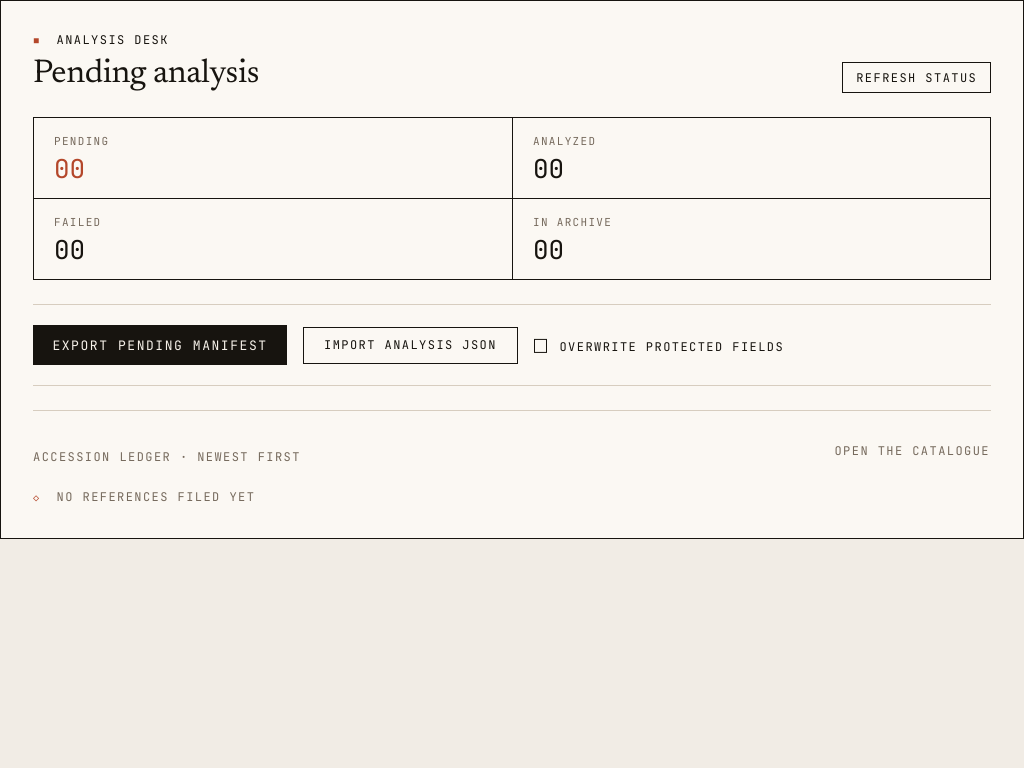
Test: the accession ledger › re-reads the archive when the status is refreshed
Expected: the text "No references filed yet" is shown, x1=57 y1=489 x2=255 y2=505
Click the button "Refresh status" at (917, 78), box x1=842 y1=62 x2=991 y2=93
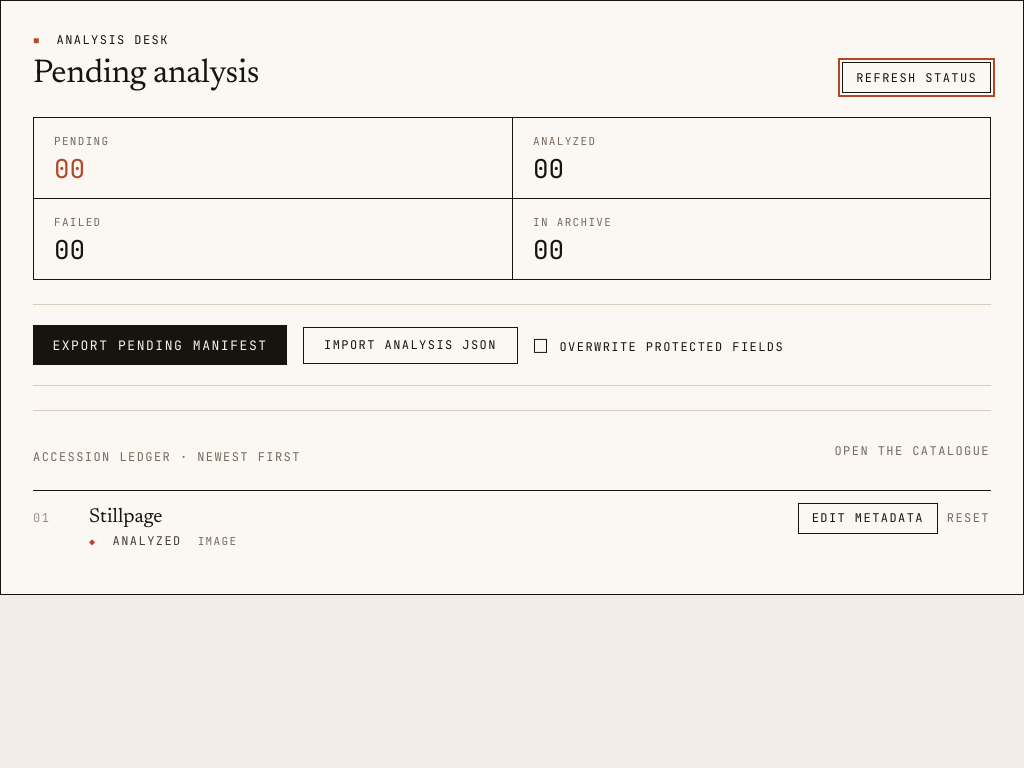
Expected: the link "Stillpage" is shown, x1=89 y1=507 x2=163 y2=527
